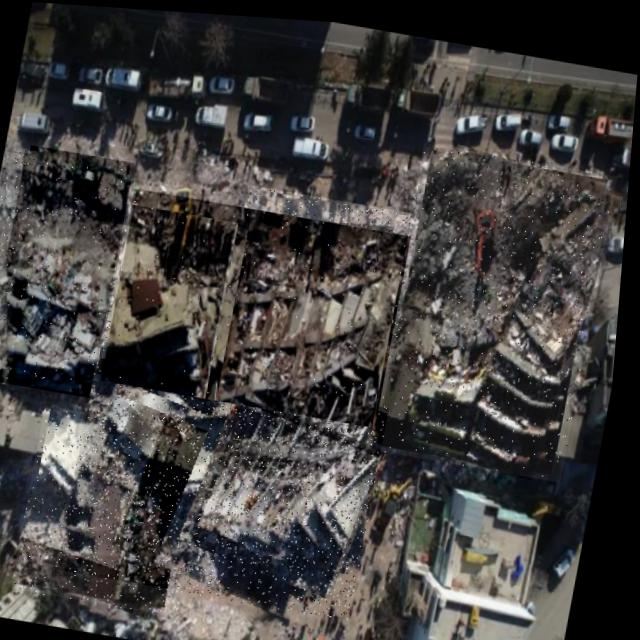Rubble: (188, 179, 423, 576), (64, 354, 397, 617), (373, 135, 621, 475), (105, 185, 416, 423), (19, 404, 211, 615), (0, 143, 137, 398), (97, 198, 246, 424), (0, 148, 40, 371)
